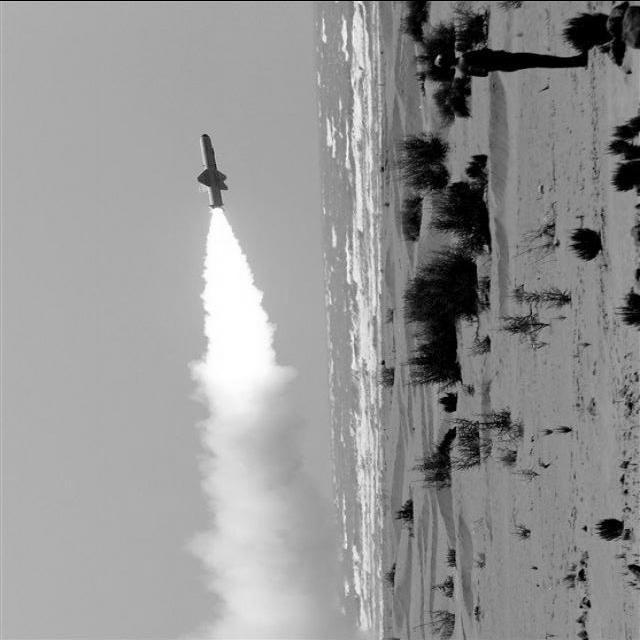Missile: (192, 126, 236, 213)
